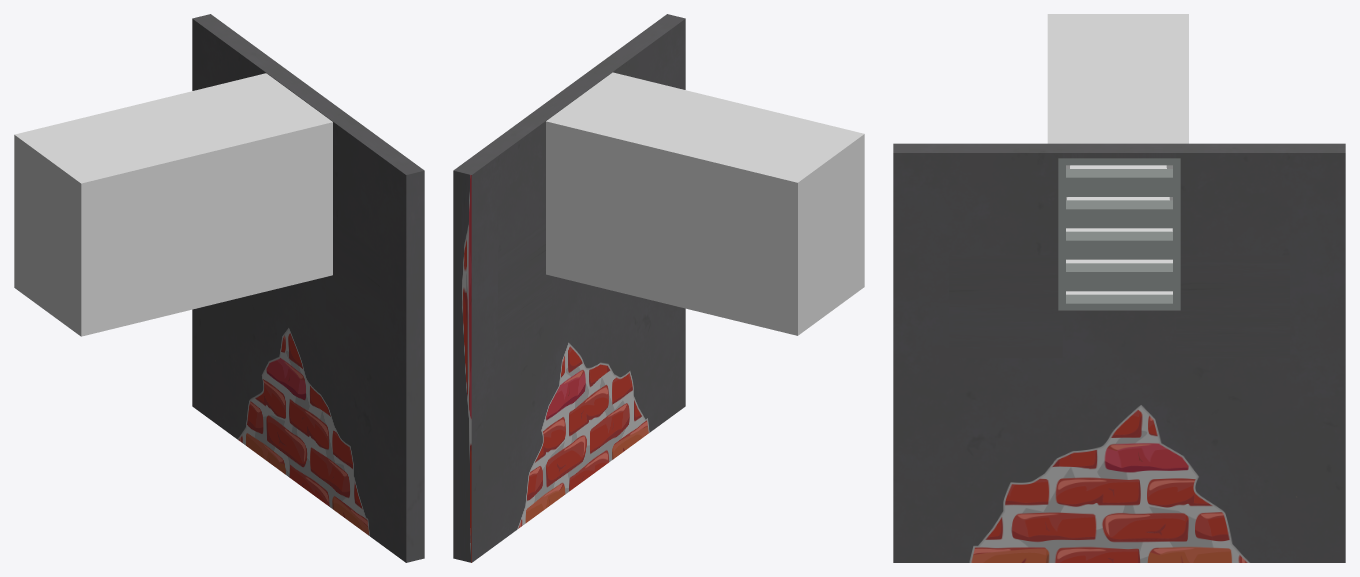
Rendered from ventilacija zid.fbx.
The picture shows the model from 3 angles, left to right: view 1: azimuth 30°, elevation 25°; view 2: azimuth 150°, elevation 25°; view 3: azimuth 270°, elevation 25°; orthographic projection. The views are drawn at different scales.
Visible parts, largest first — view 1: Cube.030, Cube.057; view 2: Cube.030, Cube.057; view 3: Cube.030, Cube.057, Cube.055.
Boxes of the visible parts, x1,y1,x2,y2 form: Cube.030: (192, 14, 424, 562); Cube.057: (14, 73, 332, 336); Cube.030: (453, 14, 685, 562); Cube.057: (546, 72, 864, 335); Cube.030: (893, 143, 1345, 562); Cube.057: (1047, 14, 1188, 294); Cube.055: (1058, 158, 1180, 310).
Bounding box in the file's own units: 730 × 1000 × 1000.
Materials: 2 (1 with a texture image).
